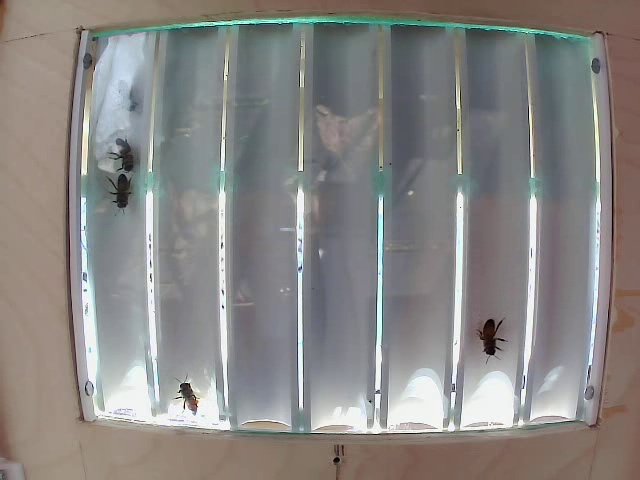bee: (473, 310, 517, 366), (159, 373, 209, 413), (113, 122, 136, 182), (105, 174, 133, 212)
